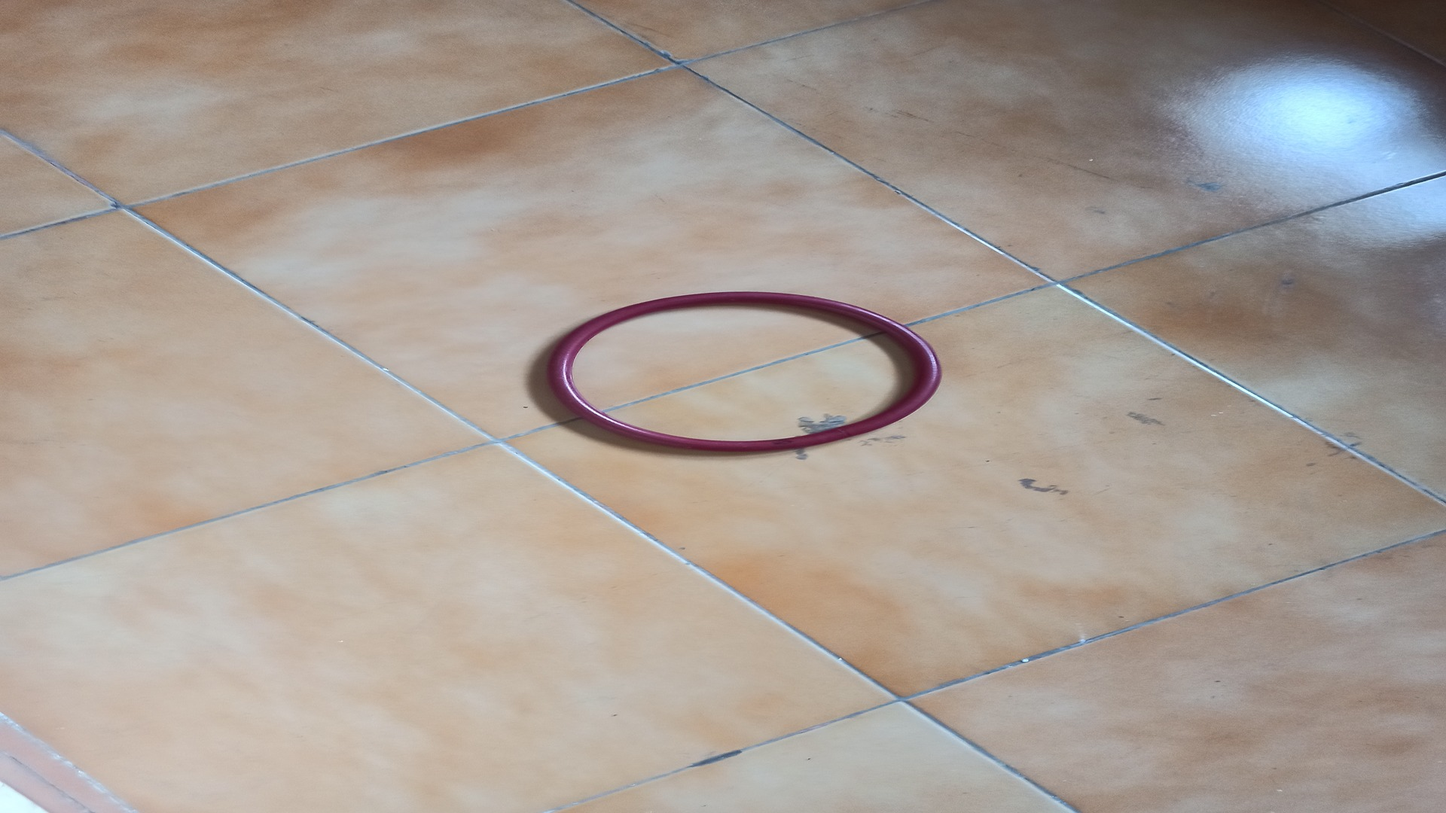Red ring: (548, 293, 943, 452)
